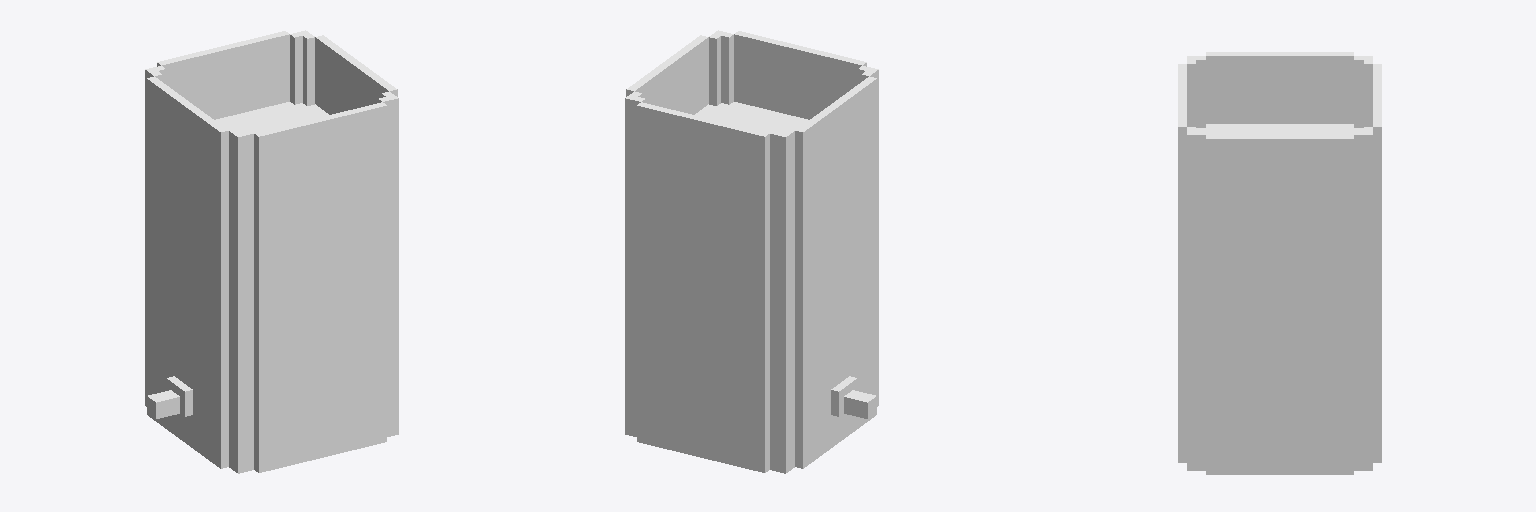
Rendered from glue_tank_a.obj.
3 views of the same model, side by side, from view 1: azimuth 30°, elevation 25°; view 2: azimuth 150°, elevation 25°; view 3: azimuth 270°, elevation 25° (orthographic).
Visible parts, largest first — view 1: object 1; view 2: object 1; view 3: object 1.
Boxes of the visible parts, box(x1,y1,x2,y2) form: object 1: box(145, 30, 398, 473); object 1: box(625, 30, 878, 473); object 1: box(1178, 52, 1381, 474).
Size of the model in its own units: 2.6 by 4 by 2.2.